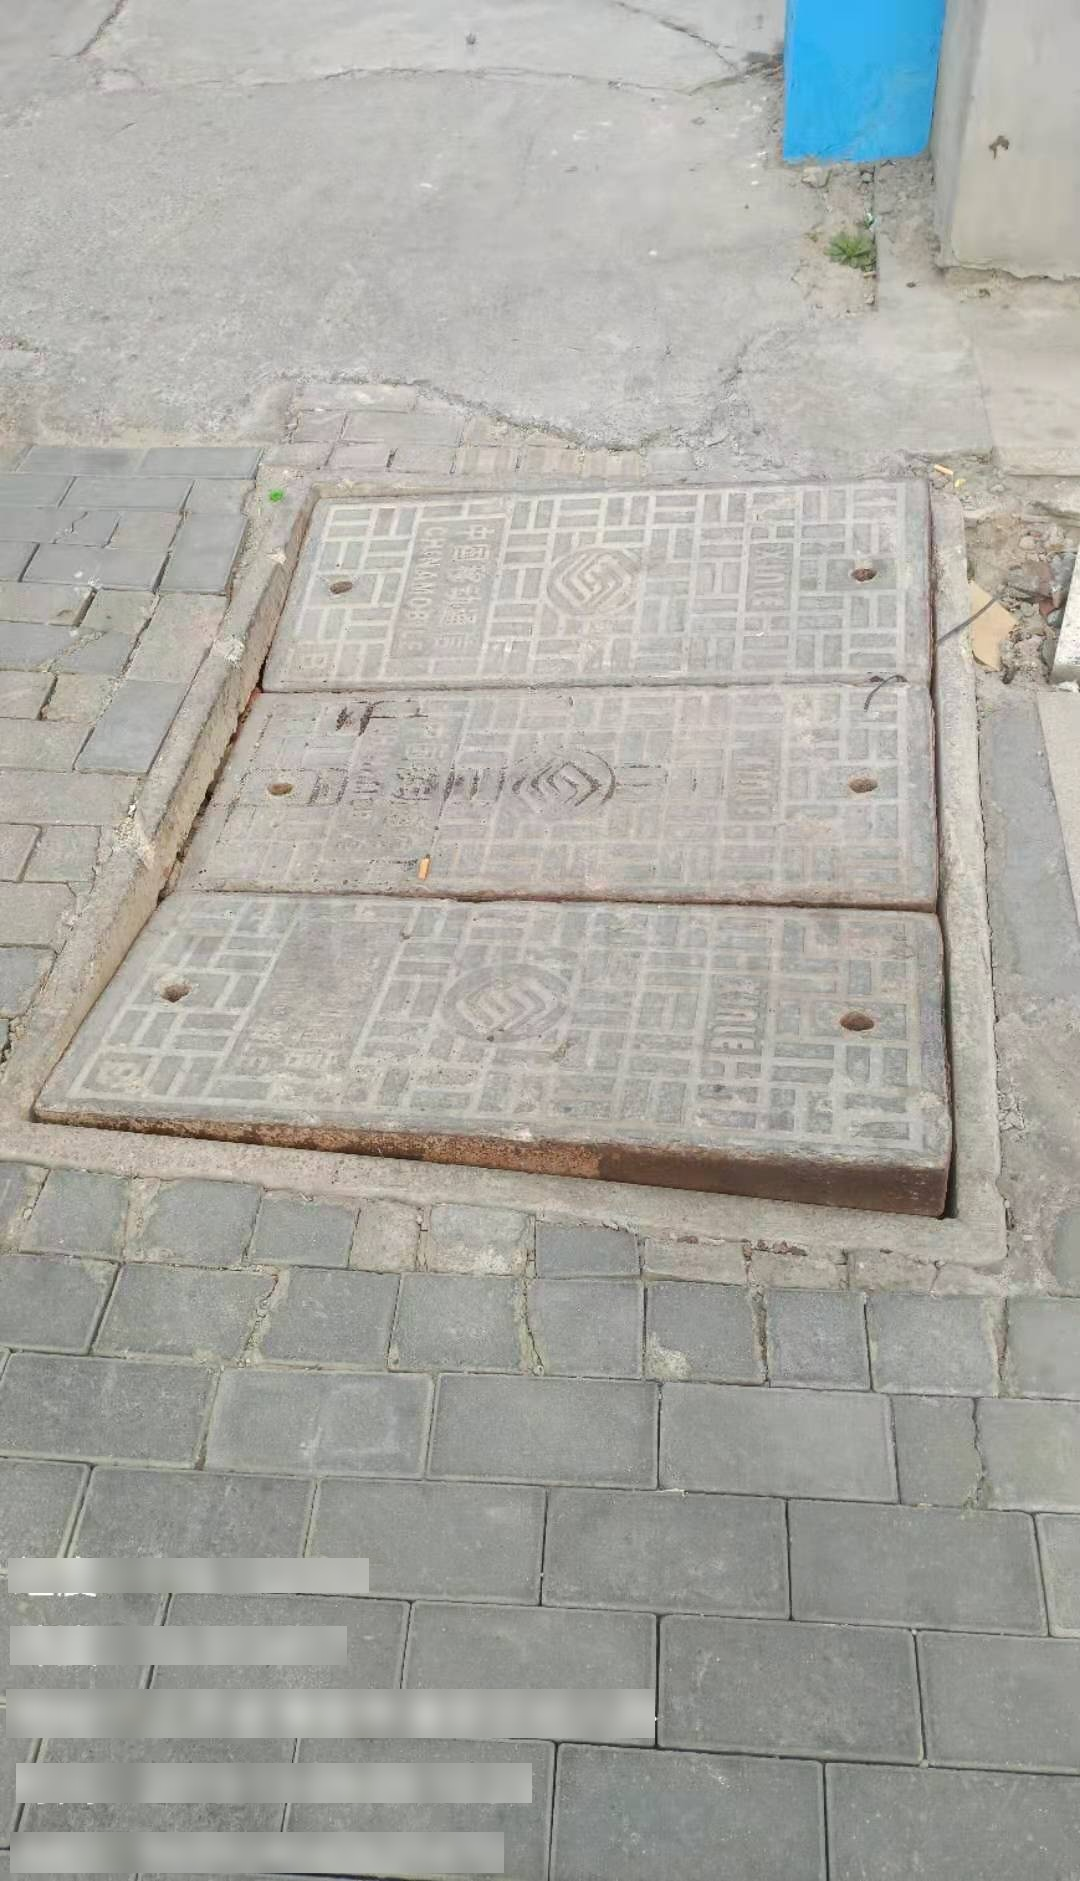uncovered: (22, 465, 1010, 1263)
